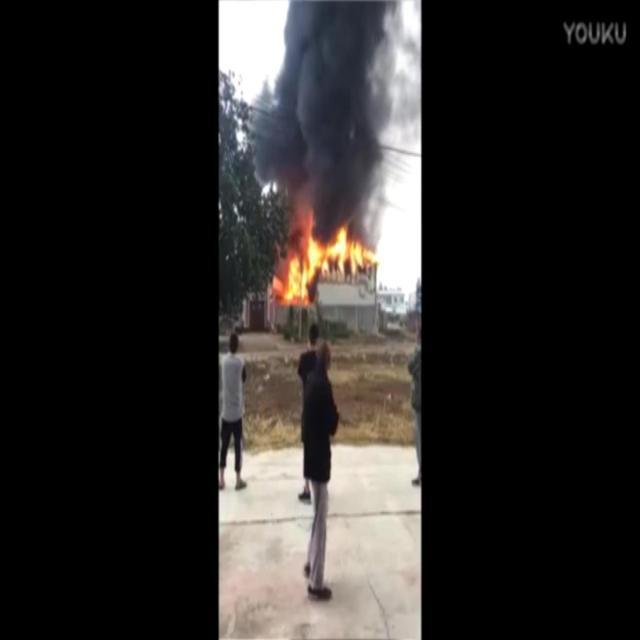Fire: (272, 222, 378, 306)
Smoke: (252, 2, 422, 245)
